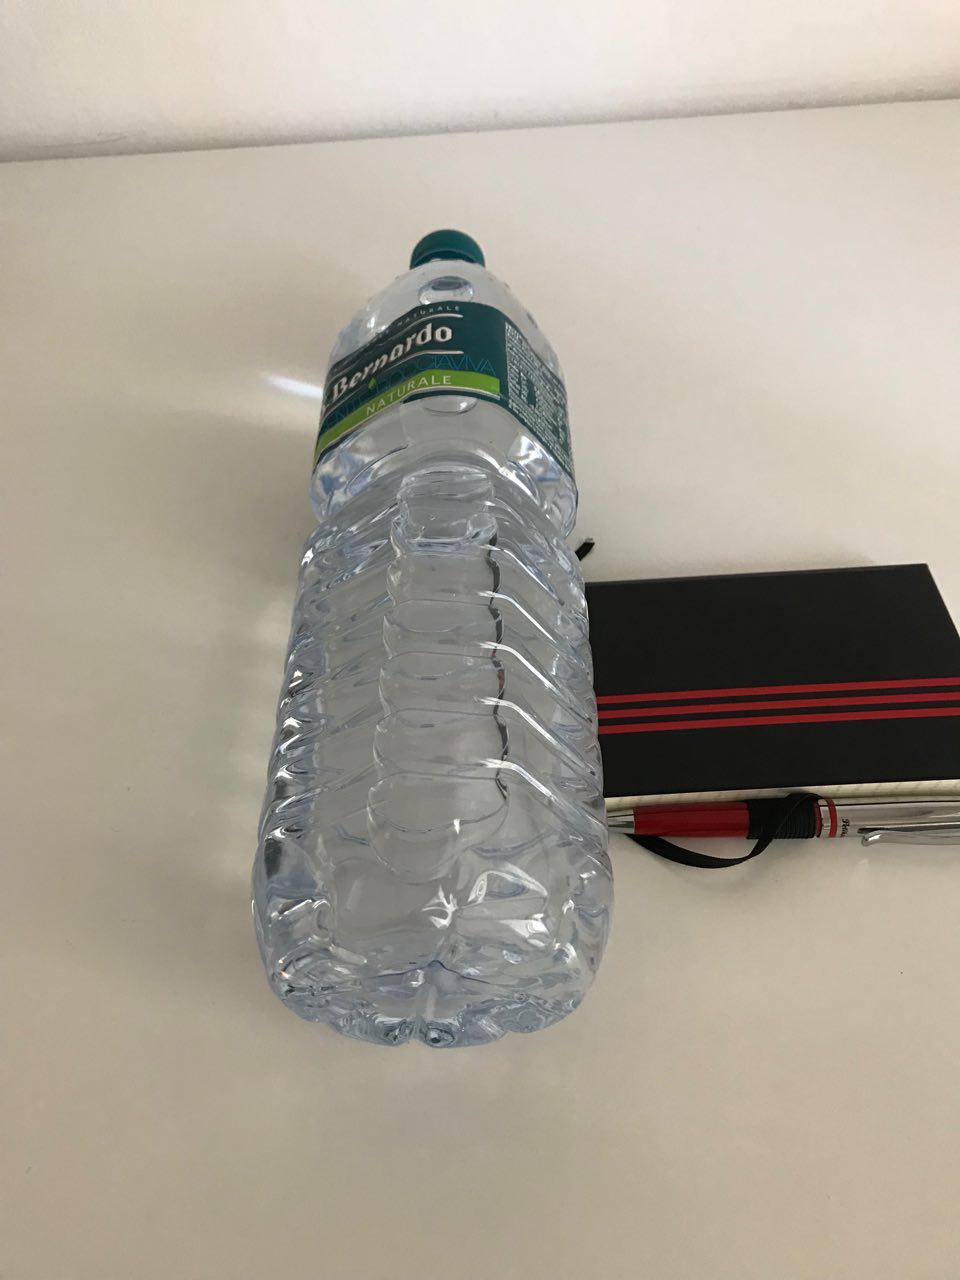san_bernardo: (246, 228, 617, 1056)
